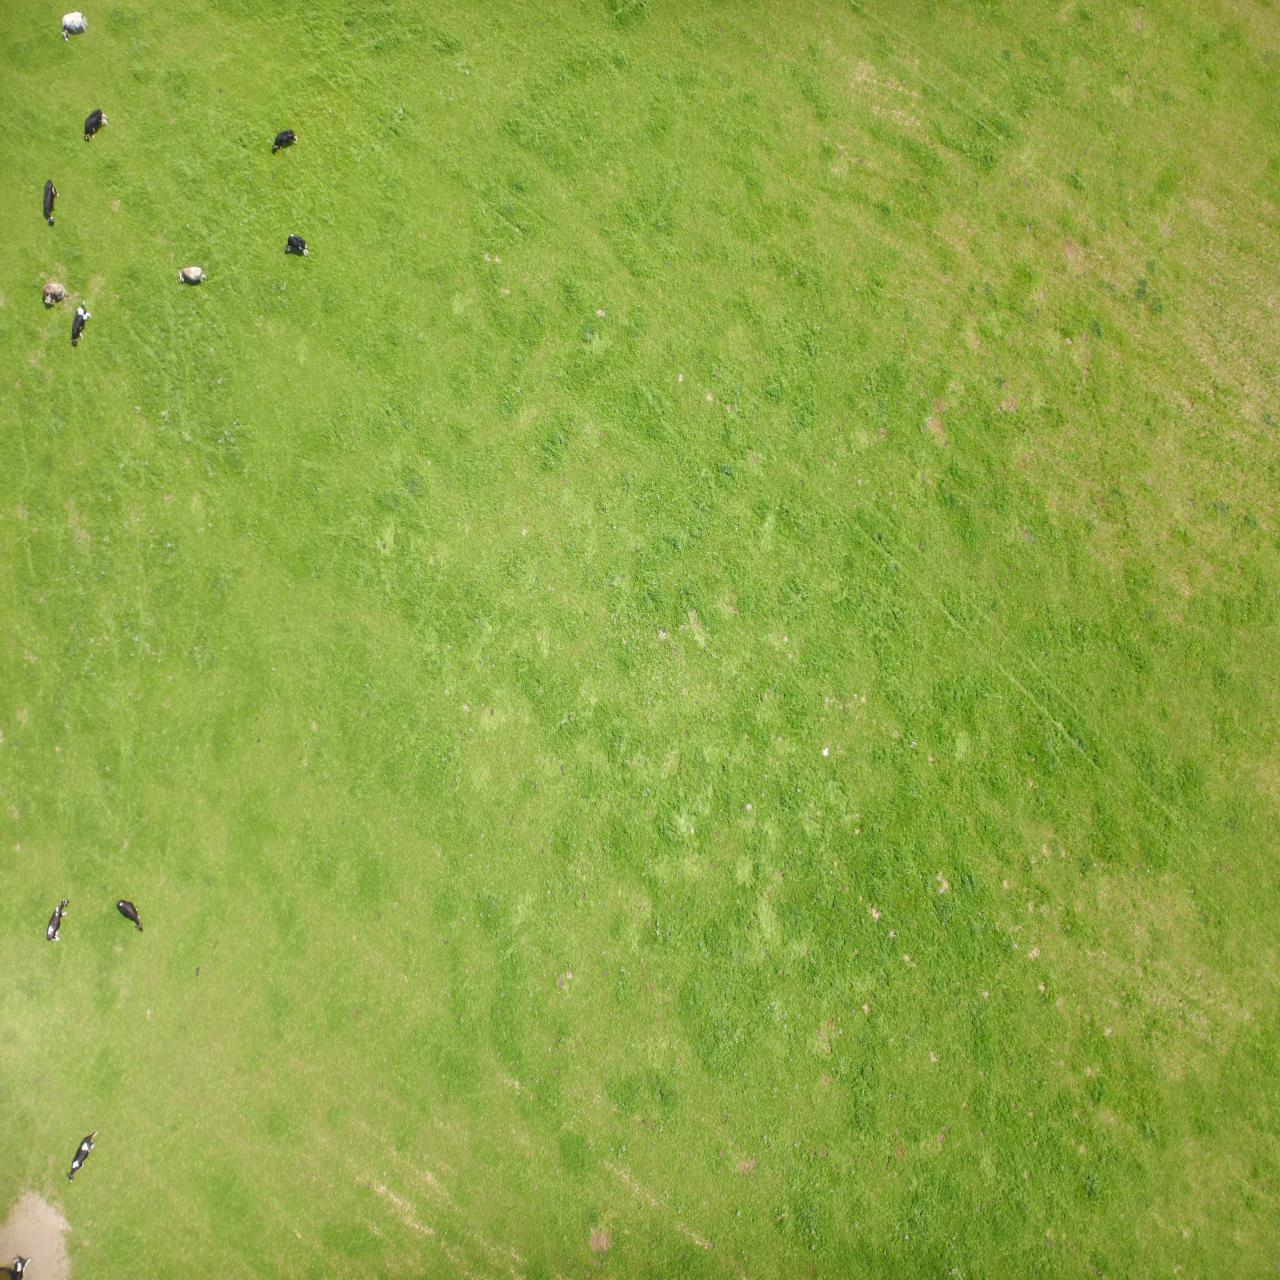cow: (1182, 97, 1214, 149), (1210, 338, 1234, 381), (1136, 347, 1164, 381), (1190, 932, 1208, 980), (1172, 1137, 1197, 1171), (1192, 1238, 1218, 1268), (982, 1126, 1008, 1150), (1221, 1057, 1235, 1099), (1211, 975, 1238, 996), (1073, 995, 1102, 1014), (972, 1024, 994, 1047)
